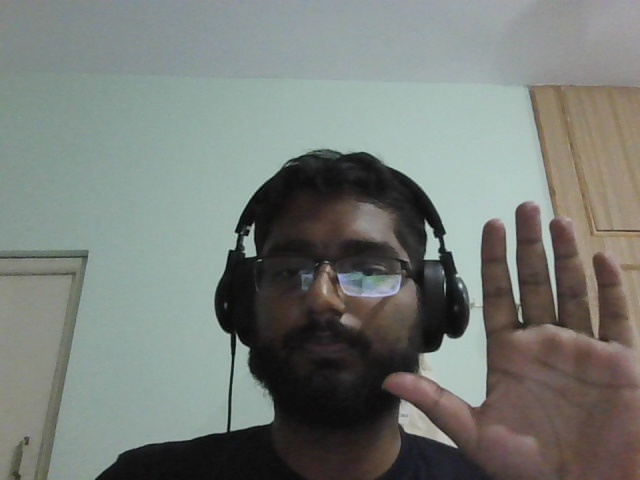Hello: (384, 200, 637, 478)
